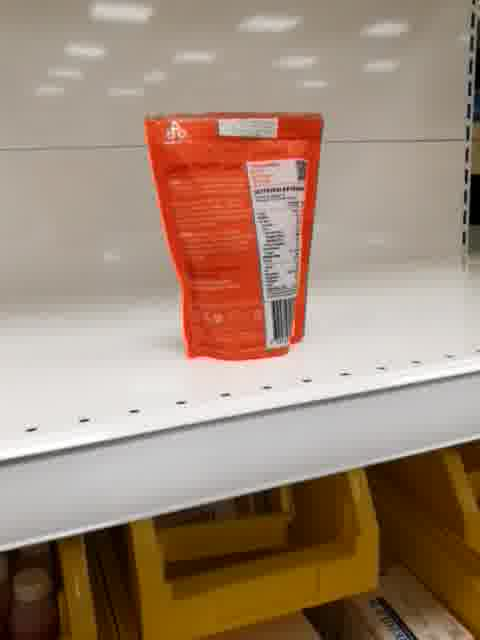whitechia: (143, 106, 325, 364)
